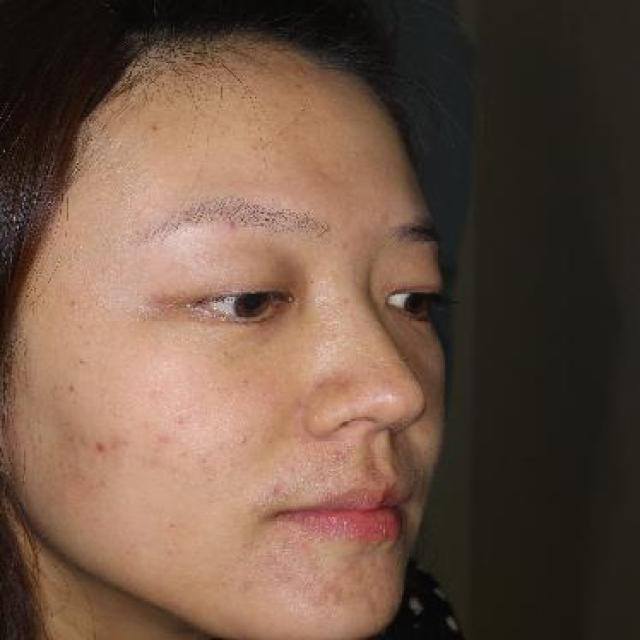dark spot: (146, 431, 168, 472), (258, 480, 291, 503), (110, 428, 135, 455), (172, 412, 192, 430), (90, 437, 110, 454)
whiteheads: (236, 432, 252, 448)
